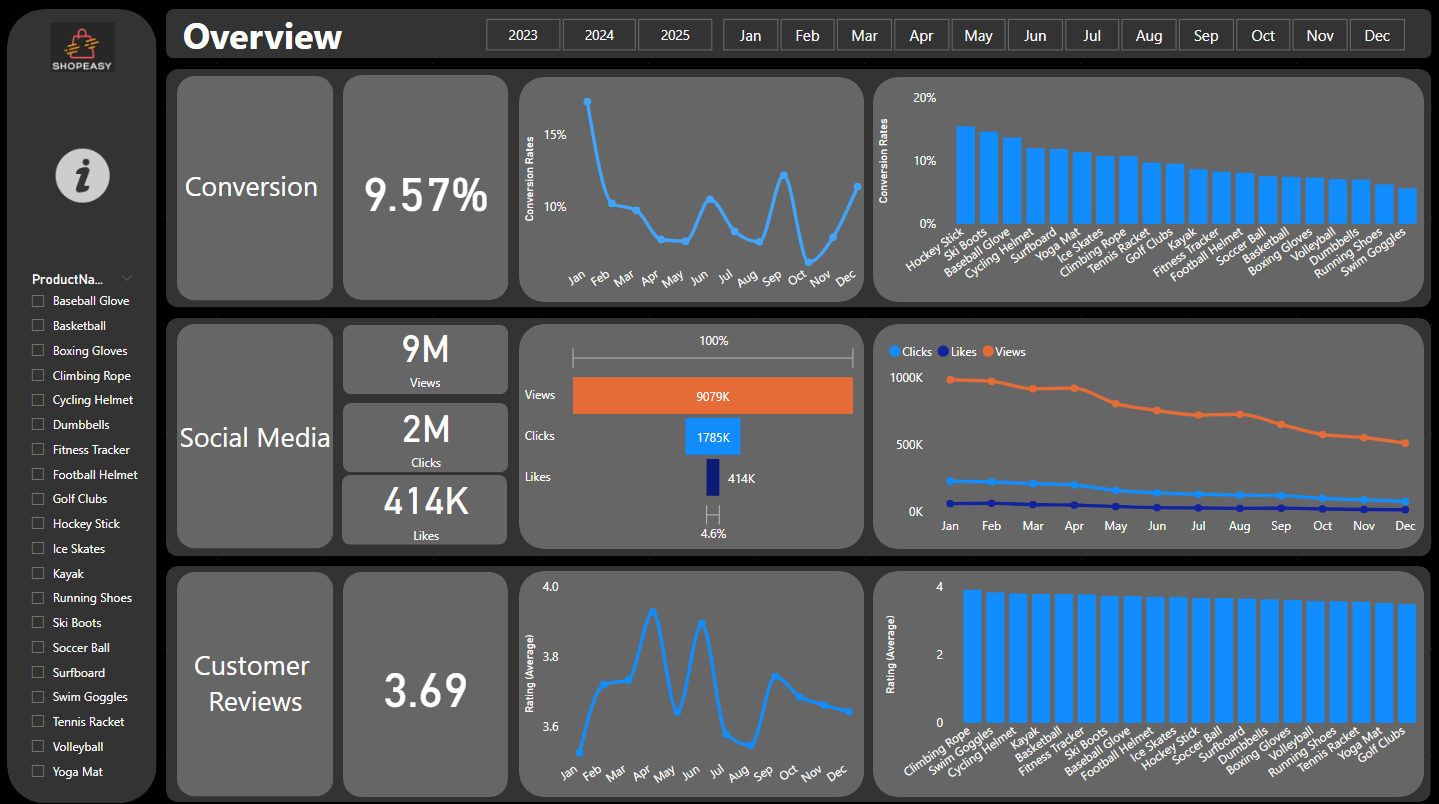

The page's visual inventory and layout, read from the dashboard file:
{"tool":"powerbi","page":{"name":"Overview","canvas":[1280,720],"ordinal":0},"visuals":[{"type":"shape","box":[6.3,8.2,133.1,705.5],"z":0},{"type":"shape","box":[300.5,68.3,147.1,200],"z":0,"group":"g1"},{"type":"shape","box":[300,287,146.7,61.6],"z":0,"group":"g4"},{"type":"image","box":[39.8,8.2,67,67],"z":1000},{"type":"card","fields":{"Values":["Key Measures.Conversion Rates"]},"box":[285,114.4,176.6,110.5],"z":1000,"group":"g1"},{"type":"card","fields":{"Values":["Key Measures.Views"]},"box":[324.5,276.1,96.9,72.5],"z":1000,"group":"g4"},{"type":"shape","box":[147.6,503.5,1124.8,210.1],"z":2000},{"type":"shape","box":[147.6,282.6,1124.8,211.9],"z":3000},{"type":"shape","box":[147.6,61.6,1124.8,211.9],"z":4000},{"type":"slicer","fields":{"Values":["dim_products.ProductName"]},"box":[15.4,236.4,115.9,468.2],"z":5000},{"type":"shape","box":[147.6,8.2,1124.8,44.4],"z":6000},{"type":"shape","box":[775.9,68.3,489.9,199.9],"z":7000},{"type":"shape","box":[775.9,288,489.9,199.9],"z":8000},{"type":"shape","box":[152.1,67.9,139.5,200.2],"z":9000,"group":"g2"},{"type":"shape","box":[775.9,507.7,489.9,200.9],"z":9000},{"type":"clusteredColumnChart","fields":{"Y":["Key Measures.Conversion Rates"],"Category":["dim_products.ProductName"]},"box":[775.9,73.2,496.8,192],"z":10000},{"type":"shape","box":[152.5,288,139.5,200.2],"z":10000,"group":"g8"},{"type":"lineChart","fields":{"Category":["Calendar.MonthNameShort"],"Y":["Key Measures.Clicks","Key Measures.Likes","Key Measures.Views"]},"box":[784.8,292.9,484,192],"z":11000},{"type":"shape","box":[152.4,508.7,139.5,200.2],"z":11000,"group":"g9"},{"type":"shape","box":[298.8,507.7,146.7,200.2],"z":12000,"group":"g6"},{"type":"clusteredColumnChart","fields":{"Category":["dim_products.ProductName"],"Y":["Key Measures.Rating (Average)"]},"box":[781.9,507.7,489.9,200.9],"z":12000},{"type":"textbox","box":[157.6,3.6,195.6,69.7],"z":13000},{"type":"shape","box":[457.5,69.6,306.8,199.9],"z":13000,"group":"g3"},{"type":"group","id":"g1","title":"Group 1","box":[285,68.3,176.2,199.9],"z":14000},{"type":"shape","box":[457.2,288,306.8,199.9],"z":14000,"group":"g5"},{"type":"group","id":"g2","title":"Group 2","box":[147.6,67.9,147.6,200.2],"z":15000},{"type":"shape","box":[457.5,508.7,306.8,200.6],"z":15000,"group":"g7"},{"type":"group","id":"g3","title":"Group 4","box":[453.3,69.3,318.7,199.9],"z":16000},{"type":"group","id":"g4","title":"Group 3","box":[300,276.1,147.5,72.2],"z":17000,"group":"g10"},{"type":"group","id":"g5","title":"Group 5","box":[457.2,286,306.8,201.9],"z":17000},{"type":"group","id":"g6","title":"Group 6","box":[297.9,507.7,149.4,200.9],"z":18000},{"type":"textbox","box":[147.6,143.1,147.6,46.2],"z":19000,"group":"g2"},{"type":"group","id":"g7","title":"Group 7","box":[453.3,508.7,310.8,200.9],"z":19000},{"type":"group","id":"g8","title":"Group 10","box":[142.5,288,158.4,199.9],"z":20000},{"type":"textbox","box":[142.5,365.9,158.5,46.2],"z":20000,"group":"g8"},{"type":"group","id":"g9","title":"Group 11","box":[131.6,508.7,180.1,200.9],"z":21000},{"type":"textbox","box":[131.6,569.4,180.2,86.9],"z":21000,"group":"g9"},{"type":"group","id":"g10","title":"Group 12","box":[297.9,276.1,149.4,211.8],"z":22000},{"type":"shape","box":[299.3,358.5,146.7,61.6],"z":22000,"group":"g12"},{"type":"slicer","fields":{"Values":["Calendar.MonthNameShort"]},"box":[617.1,10.1,655.5,42.1],"z":23000},{"type":"card","fields":{"Values":["Key Measures.Clicks"]},"box":[312,350.3,121.4,70.6],"z":23000,"group":"g12"},{"type":"slicer","fields":{"Values":["Calendar.Year"]},"box":[389.4,10,250.9,41.7],"z":24000},{"type":"shape","box":[297.9,425.7,147.5,62.4],"z":24000,"group":"g11"},{"type":"group","id":"g11","title":"Group 8","box":[297.9,417.8,147.5,70.3],"z":25000,"group":"g10"},{"type":"card","fields":{"Values":["Key Measures.Rating (Average)"]},"box":[297.9,563.9,148.5,88.8],"z":25000,"group":"g6"},{"type":"lineChart","fields":{"Y":["Key Measures.Conversion Rates"],"Category":["Calendar.MonthNameShort"]},"box":[453.3,69.3,318.7,198.9],"z":26000,"group":"g3"},{"type":"image","box":[45.3,92.4,55.2,50.7],"z":26000},{"type":"group","id":"g12","title":"Group 9","box":[299.3,350.3,146.7,70.6],"z":26000,"group":"g10"},{"type":"image","box":[45.3,166.6,55.2,50.7],"z":27000},{"type":"card","fields":{"Values":["Key Measures.Likes"]},"box":[308.8,417.8,128.7,70.3],"z":27000,"group":"g11"},{"type":"lineChart","fields":{"Category":["Calendar.MonthNameShort"],"Y2":["Key Measures.Rating (Average)"]},"box":[453.3,510,310.8,199.9],"z":30000,"group":"g7"},{"type":"funnel","fields":{"Y":["Key Measures.Views","Key Measures.Clicks","Key Measures.Likes"]},"box":[458,286,305.8,200.9],"z":31000,"group":"g5"}]}

Visuals, with their boxes in screenshot pixels (x1, y1, x2, y2):
shape: [left=0, top=0, right=152, bottom=803]
shape: [left=336, top=67, right=505, bottom=296]
shape: [left=336, top=317, right=504, bottom=388]
image: [left=38, top=0, right=115, bottom=75]
card - Key Measures.Conversion Rates: [left=319, top=120, right=521, bottom=246]
card - Key Measures.Views: [left=364, top=305, right=475, bottom=388]
shape: [left=161, top=565, right=1438, bottom=803]
shape: [left=161, top=312, right=1438, bottom=555]
shape: [left=161, top=59, right=1438, bottom=302]
slicer - dim_products.ProductName: [left=10, top=259, right=143, bottom=795]
shape: [left=161, top=0, right=1438, bottom=49]
shape: [left=880, top=67, right=1438, bottom=296]
shape: [left=880, top=318, right=1438, bottom=547]
shape: [left=167, top=66, right=326, bottom=295]
shape: [left=880, top=570, right=1438, bottom=799]
clusteredColumnChart - Key Measures.Conversion Rates x dim_products.ProductName: [left=880, top=73, right=1438, bottom=292]
shape: [left=167, top=318, right=327, bottom=547]
lineChart - Calendar.MonthNameShort x Key Measures.Clicks: [left=890, top=324, right=1438, bottom=544]
shape: [left=167, top=571, right=326, bottom=800]
shape: [left=334, top=570, right=502, bottom=799]
clusteredColumnChart - dim_products.ProductName x Key Measures.Rating (Average): [left=887, top=570, right=1438, bottom=799]
textbox: [left=173, top=0, right=397, bottom=73]
shape: [left=516, top=68, right=867, bottom=297]
"Group 1" group: [left=319, top=67, right=520, bottom=296]
shape: [left=516, top=318, right=867, bottom=547]
"Group 2" group: [left=161, top=66, right=330, bottom=295]
shape: [left=516, top=571, right=867, bottom=800]
"Group 4" group: [left=511, top=68, right=876, bottom=297]
"Group 3" group: [left=336, top=305, right=504, bottom=387]
"Group 5" group: [left=516, top=316, right=867, bottom=547]
"Group 6" group: [left=333, top=570, right=504, bottom=799]
textbox: [left=161, top=152, right=330, bottom=205]
"Group 7" group: [left=511, top=571, right=867, bottom=801]
"Group 10" group: [left=156, top=318, right=337, bottom=547]
textbox: [left=156, top=407, right=337, bottom=460]
"Group 11" group: [left=143, top=571, right=349, bottom=801]
textbox: [left=143, top=640, right=349, bottom=740]
"Group 12" group: [left=333, top=305, right=504, bottom=547]
shape: [left=335, top=399, right=503, bottom=469]
slicer - Calendar.MonthNameShort: [left=699, top=0, right=1438, bottom=48]
card - Key Measures.Clicks: [left=349, top=390, right=488, bottom=470]
slicer - Calendar.Year: [left=438, top=0, right=725, bottom=48]
shape: [left=333, top=476, right=502, bottom=547]
"Group 8" group: [left=333, top=467, right=502, bottom=547]
card - Key Measures.Rating (Average): [left=333, top=634, right=503, bottom=736]
lineChart - Key Measures.Conversion Rates x Calendar.MonthNameShort: [left=511, top=68, right=876, bottom=296]
image: [left=44, top=94, right=107, bottom=152]
"Group 9" group: [left=335, top=390, right=503, bottom=470]
image: [left=44, top=179, right=107, bottom=237]
card - Key Measures.Likes: [left=346, top=467, right=493, bottom=547]
lineChart - Calendar.MonthNameShort x Key Measures.Rating (Average): [left=511, top=572, right=867, bottom=801]
funnel - Key Measures.Views x Key Measures.Clicks: [left=517, top=316, right=866, bottom=546]
